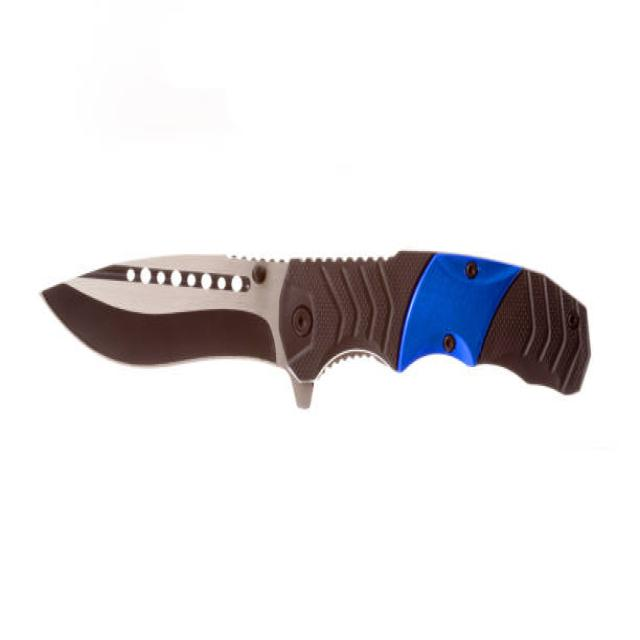knife: (27, 207, 599, 423)
